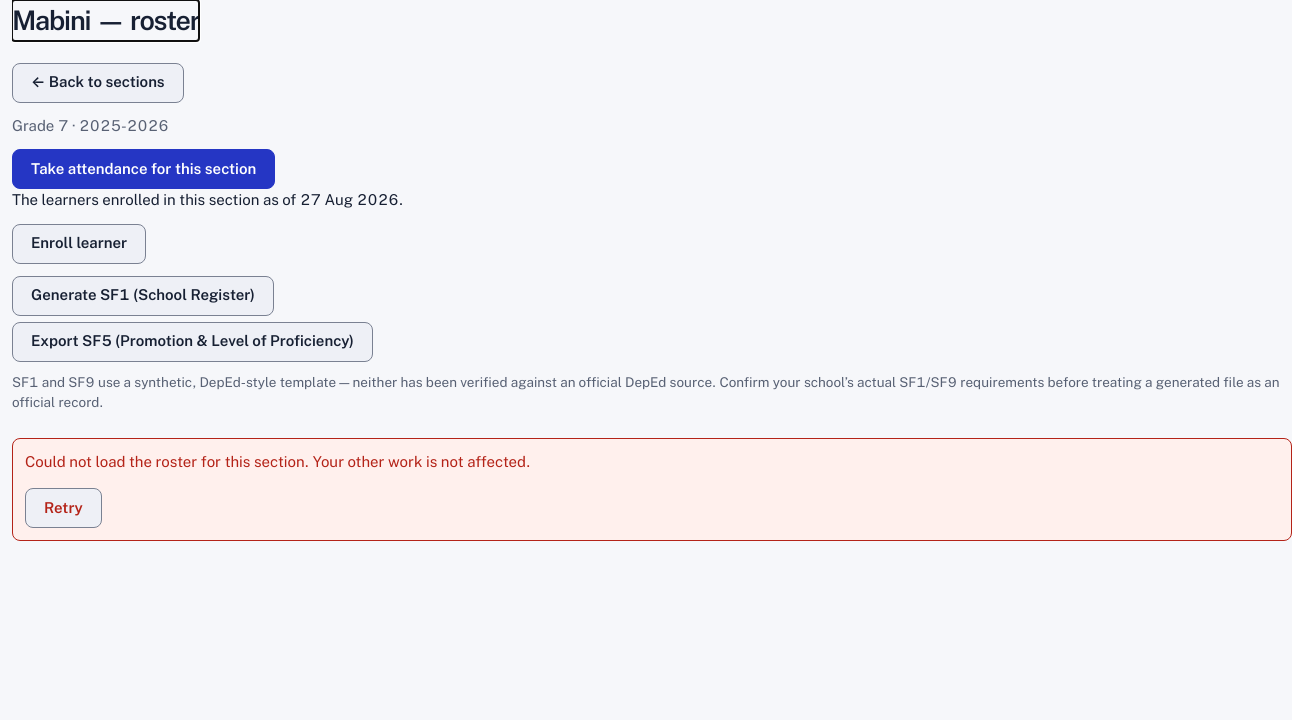
Test: SectionRosterScreen › shows a retryable error when the roster query fails, without losing other navigation
Expected: the text "Could not load the roster for this section" is shown, [25,453,530,470]
Step 1. Click the button "Retry" → point(63, 508), box [25,488,102,528]
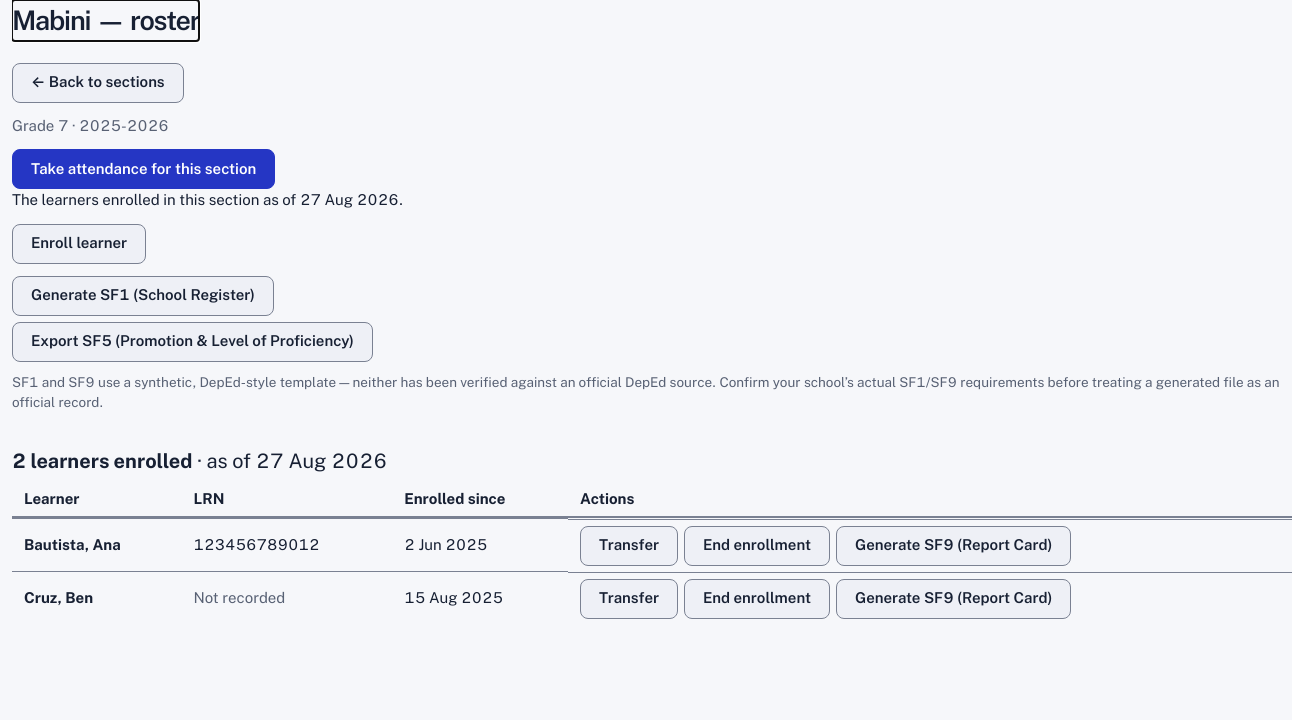
Now the text "2 learners enrolled" is shown, box [12,449,192,472]
